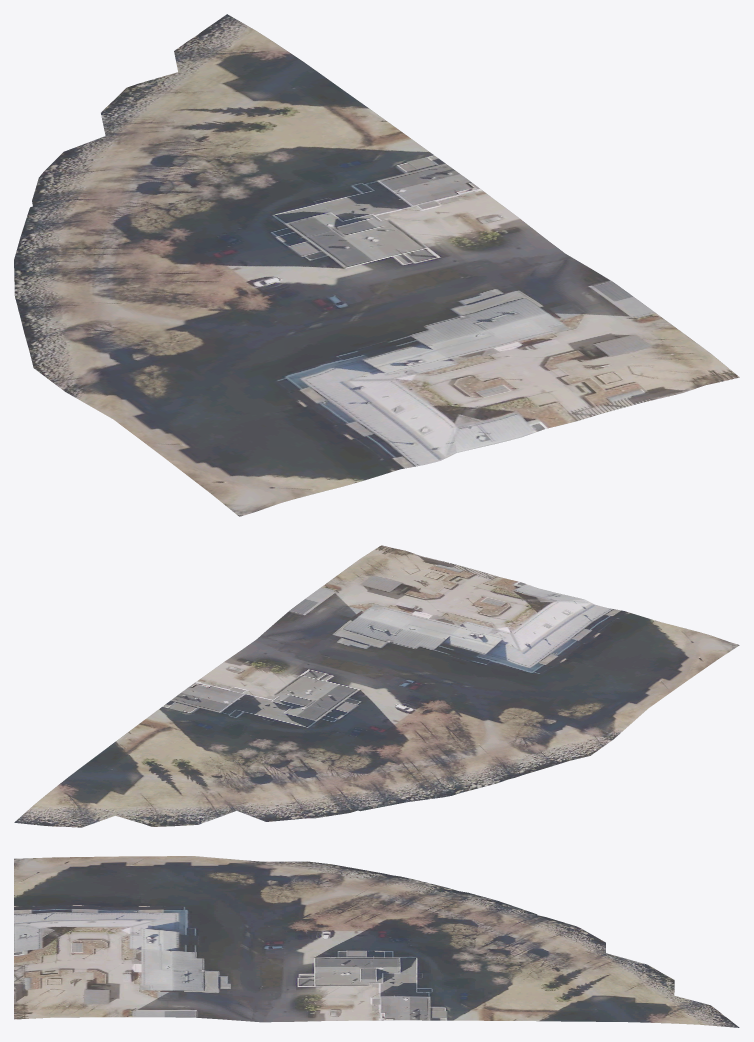
The model's file is CM_Terrain_24487592_6822456.fbx.
3 views of the same model, one above another, from view 1: azimuth 30°, elevation 25°; view 2: azimuth 150°, elevation 25°; view 3: azimuth 270°, elevation 25° (orthographic). The views are drawn at different scales.
Visible parts, largest first — view 1: CM_Terrain_24487592_6822456_LOD0; view 2: CM_Terrain_24487592_6822456_LOD0; view 3: CM_Terrain_24487592_6822456_LOD0.
Part boxes in pixels (x1,y1,x2,y2): CM_Terrain_24487592_6822456_LOD0: (14,14,739,516); CM_Terrain_24487592_6822456_LOD0: (14,545,739,827); CM_Terrain_24487592_6822456_LOD0: (14,856,739,1027).
Size of what is drawn, in the model's own units: 89.09 by 4.25 by 158.
